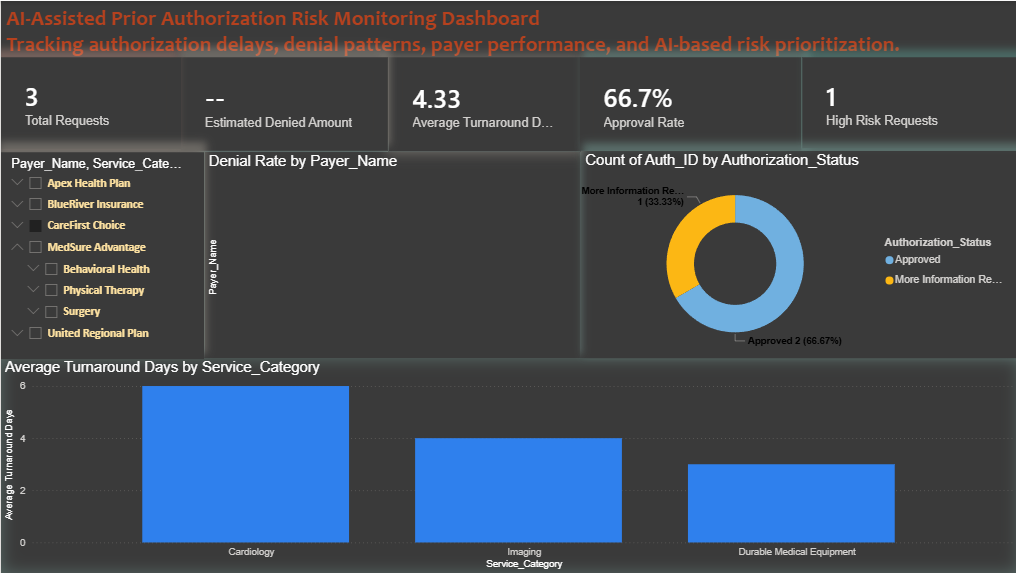

Layout of this report page (visuals, bound fields, positions):
{"tool":"powerbi","page":{"name":"Executive Overview","canvas":[1280,720],"ordinal":0},"visuals":[{"type":"textbox","box":[1.2,0,1278.8,91.7],"z":0},{"type":"slicer","fields":{"Values":["Prior Auth.Payer_Name","Prior Auth.Service_Category","Prior Auth.State","Prior Auth.AI_Risk_Level"]},"box":[0,191,255.3,260],"z":0,"group":"g2"},{"type":"donutChart","fields":{"Category":["Prior Auth.Authorization_Status"],"Y":["CountNonNull(Prior Auth.Auth_ID)"]},"box":[727.9,188.9,552.1,260.7],"z":1000,"group":"g2"},{"type":"clusteredBarChart","fields":{"Category":["Prior Auth.Payer_Name"],"Y":["Prior Auth.Denial Rate"]},"box":[255.3,189.3,471.3,260.7],"z":1000},{"type":"cardVisual","fields":{"Data":["Prior Auth.Average Turnaround Days"]},"box":[486.5,70.9,241.3,118.3],"z":2000},{"type":"clusteredColumnChart","fields":{"Category":["Prior Auth.Service_Category"],"Y":["Prior Auth.Average Turnaround Days"]},"box":[0,450,1280,270],"z":3000},{"type":"cardVisual","fields":{"Data":["Prior Auth.Estimated Denied Amount"]},"box":[226.5,70.9,260,117.8],"z":4000},{"type":"group","id":"g1","title":"Group 1","box":[0,70.9,1280,117.7],"z":5000},{"type":"cardVisual","fields":{"Data":["Prior Auth.Total Requests"]},"box":[0,70.9,226.5,115.2],"z":5000,"group":"g1"},{"type":"cardVisual","fields":{"Data":["Prior Auth.Approval Rate"]},"box":[728.1,71,278.6,117.6],"z":6000,"group":"g1"},{"type":"group","id":"g2","title":"Group 2","box":[0,188.9,1280,262.1],"z":6000},{"type":"cardVisual","fields":{"Data":["Prior Auth.High Risk Requests"]},"box":[1006.7,71,273.3,114.8],"z":8000,"group":"g1"}]}

Visuals, with their boxes in screenshot pixels (x1, y1, x2, y2), scaled from the page's 1280x720 canvas onto the 1016x573 screenshot:
textbox: l=1, t=0, r=1015, b=73
slicer - Prior Auth.Payer_Name x Prior Auth.Service_Category: l=0, t=152, r=203, b=359
donutChart - Prior Auth.Authorization_Status x CountNonNull(Prior Auth.Auth_ID): l=578, t=150, r=1015, b=358
clusteredBarChart - Prior Auth.Payer_Name x Prior Auth.Denial Rate: l=203, t=151, r=577, b=358
cardVisual - Prior Auth.Average Turnaround Days: l=386, t=56, r=578, b=151
clusteredColumnChart - Prior Auth.Service_Category x Prior Auth.Average Turnaround Days: l=0, t=358, r=1015, b=572
cardVisual - Prior Auth.Estimated Denied Amount: l=180, t=56, r=386, b=150
"Group 1" group: l=0, t=56, r=1015, b=150
cardVisual - Prior Auth.Total Requests: l=0, t=56, r=180, b=148
cardVisual - Prior Auth.Approval Rate: l=578, t=57, r=799, b=150
"Group 2" group: l=0, t=150, r=1015, b=359
cardVisual - Prior Auth.High Risk Requests: l=799, t=57, r=1015, b=148
